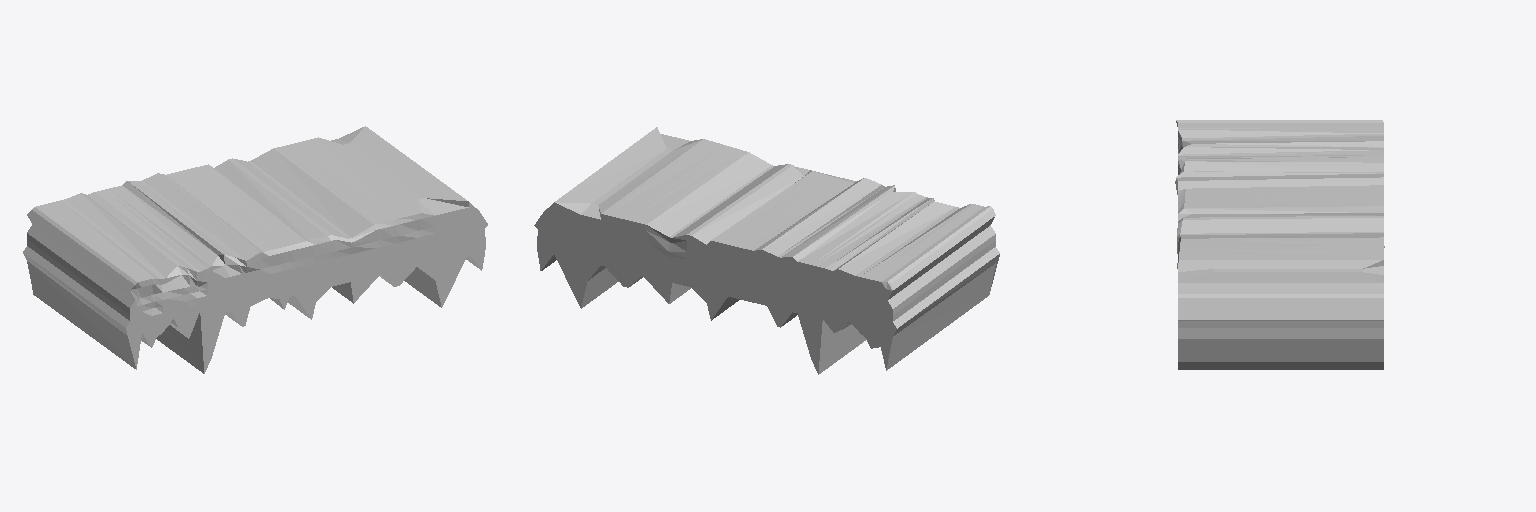
File: rocky_platform (1).obj
3 views of the same model, side by side, from view 1: azimuth 30°, elevation 25°; view 2: azimuth 150°, elevation 25°; view 3: azimuth 270°, elevation 25° (orthographic).
Visible parts, largest first — view 1: Cube.001; view 2: Cube.001; view 3: Cube.001.
Boxes of the visible parts, x1=… form: Cube.001: x1=23, y1=126, x2=487, y2=373; Cube.001: x1=534, y1=127, x2=999, y2=374; Cube.001: x1=1175, y1=120, x2=1384, y2=369.
Bounding box in the file's own units: 2.76 × 0.8128 × 1.38.